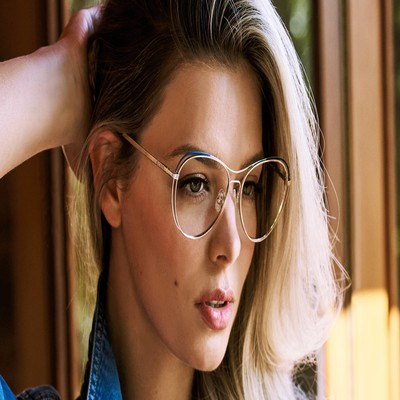eywear: (152, 131, 302, 251), (31, 115, 148, 118)
